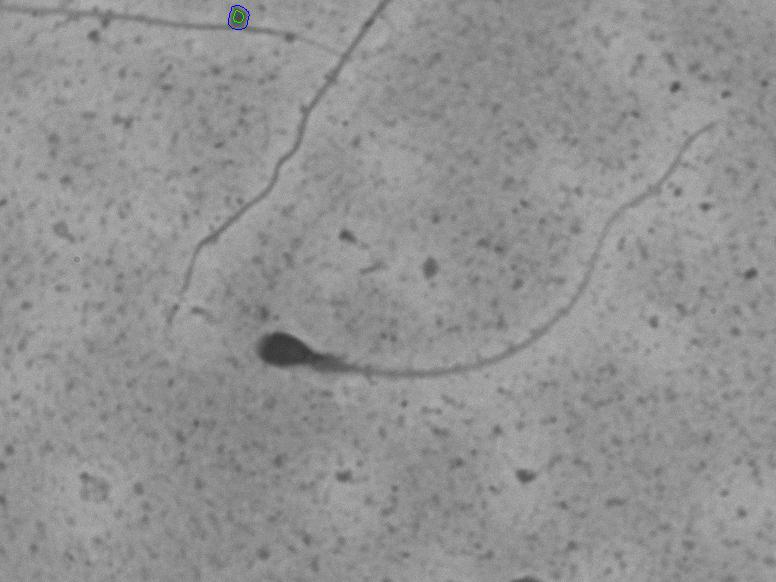Abnormal: (230, 148, 734, 428)
